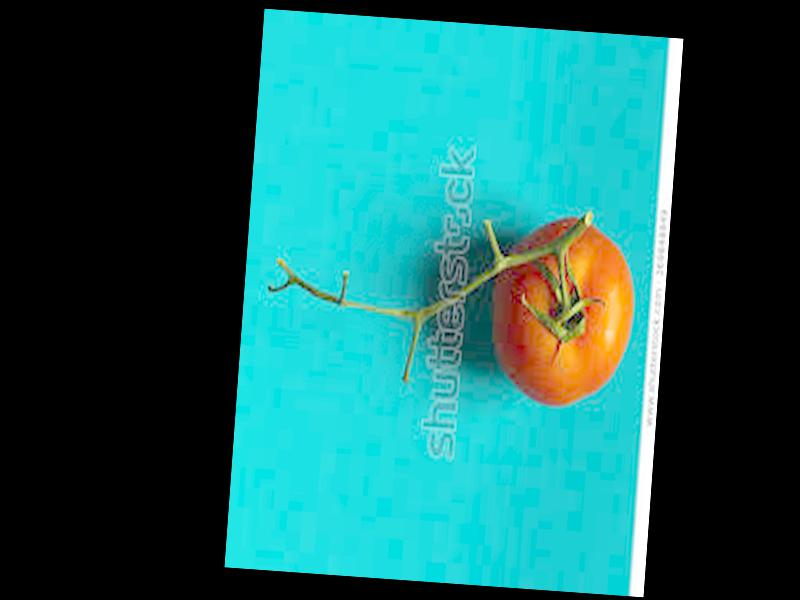Tomato: (489, 210, 637, 410)
